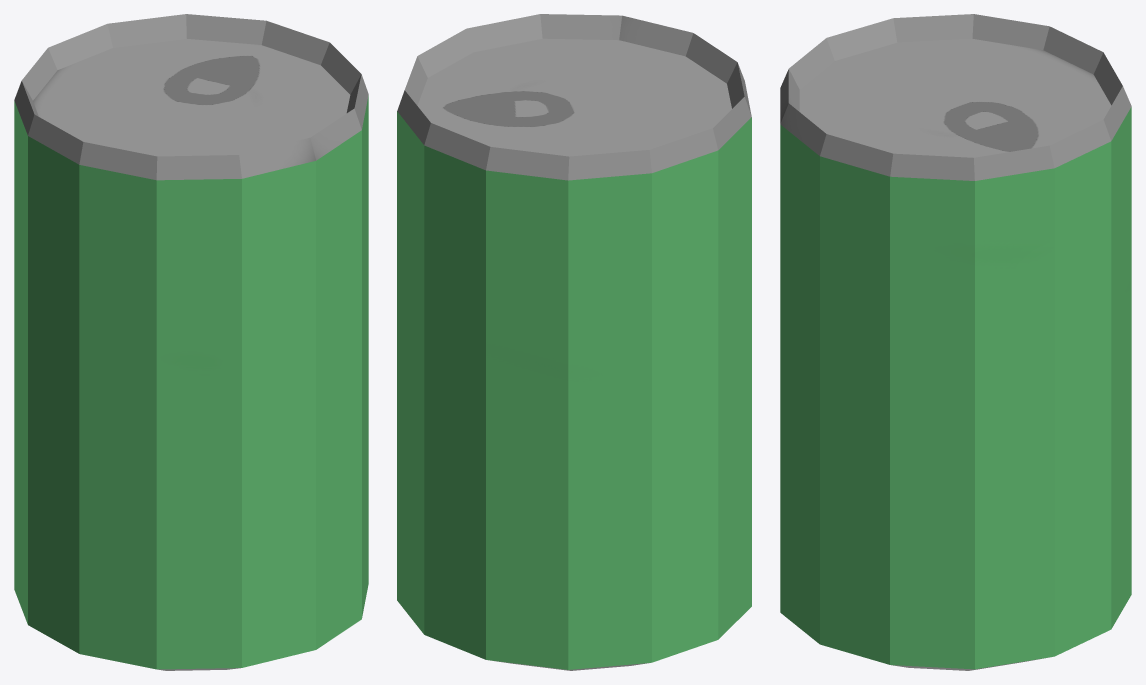
The model's file is Latinha.fbx.
3 renders of one model, left to right at view 1: azimuth 30°, elevation 25°; view 2: azimuth 150°, elevation 25°; view 3: azimuth 270°, elevation 25°, orthographic.
Visible parts, largest first — view 1: Cylinder; view 2: Cylinder; view 3: Cylinder.
Boxes of the visible parts, <box> form: Cylinder: <box>14,14,368,670</box>; Cylinder: <box>397,14,751,670</box>; Cylinder: <box>780,14,1131,670</box>.
Size of the model in its own units: 199 by 329 by 197.
Materials: 1 (1 with a texture image).
